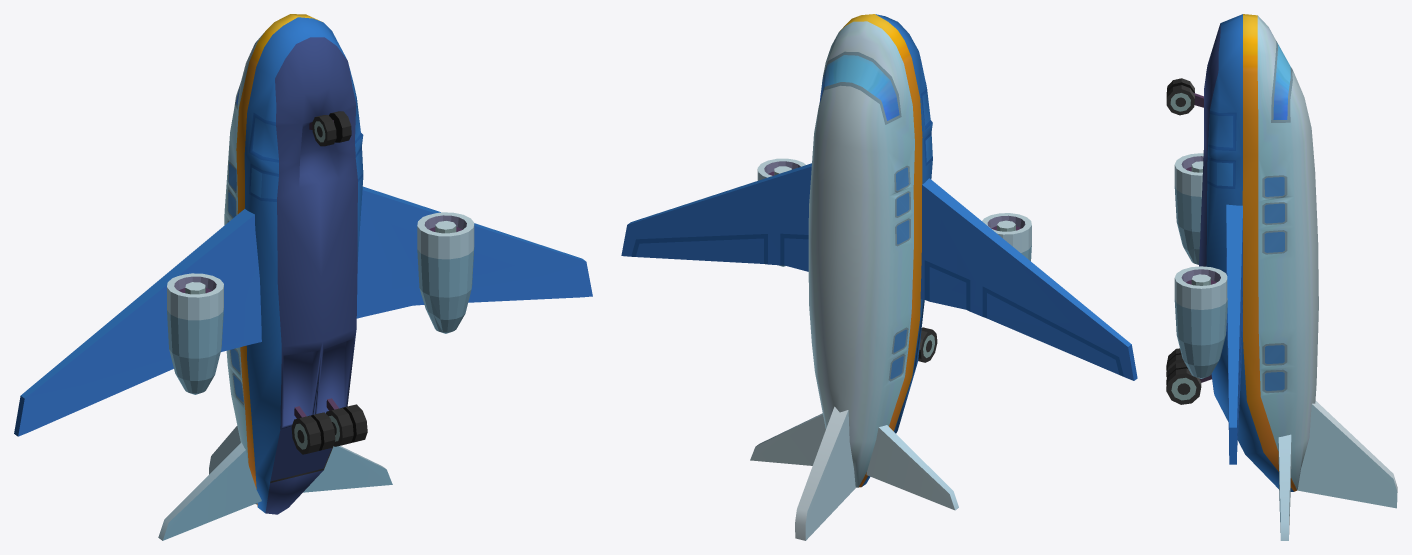
Rendered from FeiJi1_1_Mo.fbx.
3 views of the same model, side by side, from view 1: azimuth 30°, elevation 25°; view 2: azimuth 150°, elevation 25°; view 3: azimuth 270°, elevation 25° (orthographic). The views are drawn at different scales.
Parts seen in each view (by area): view 1: Box001; view 2: Box001; view 3: Box001.
Part boxes in pixels (<box>): Box001: <box>14,14,592,540</box>; Box001: <box>621,14,1137,540</box>; Box001: <box>1166,14,1397,540</box>.
Size of the model in its own units: 761 by 669 by 286.
1 material, 1 textured.
